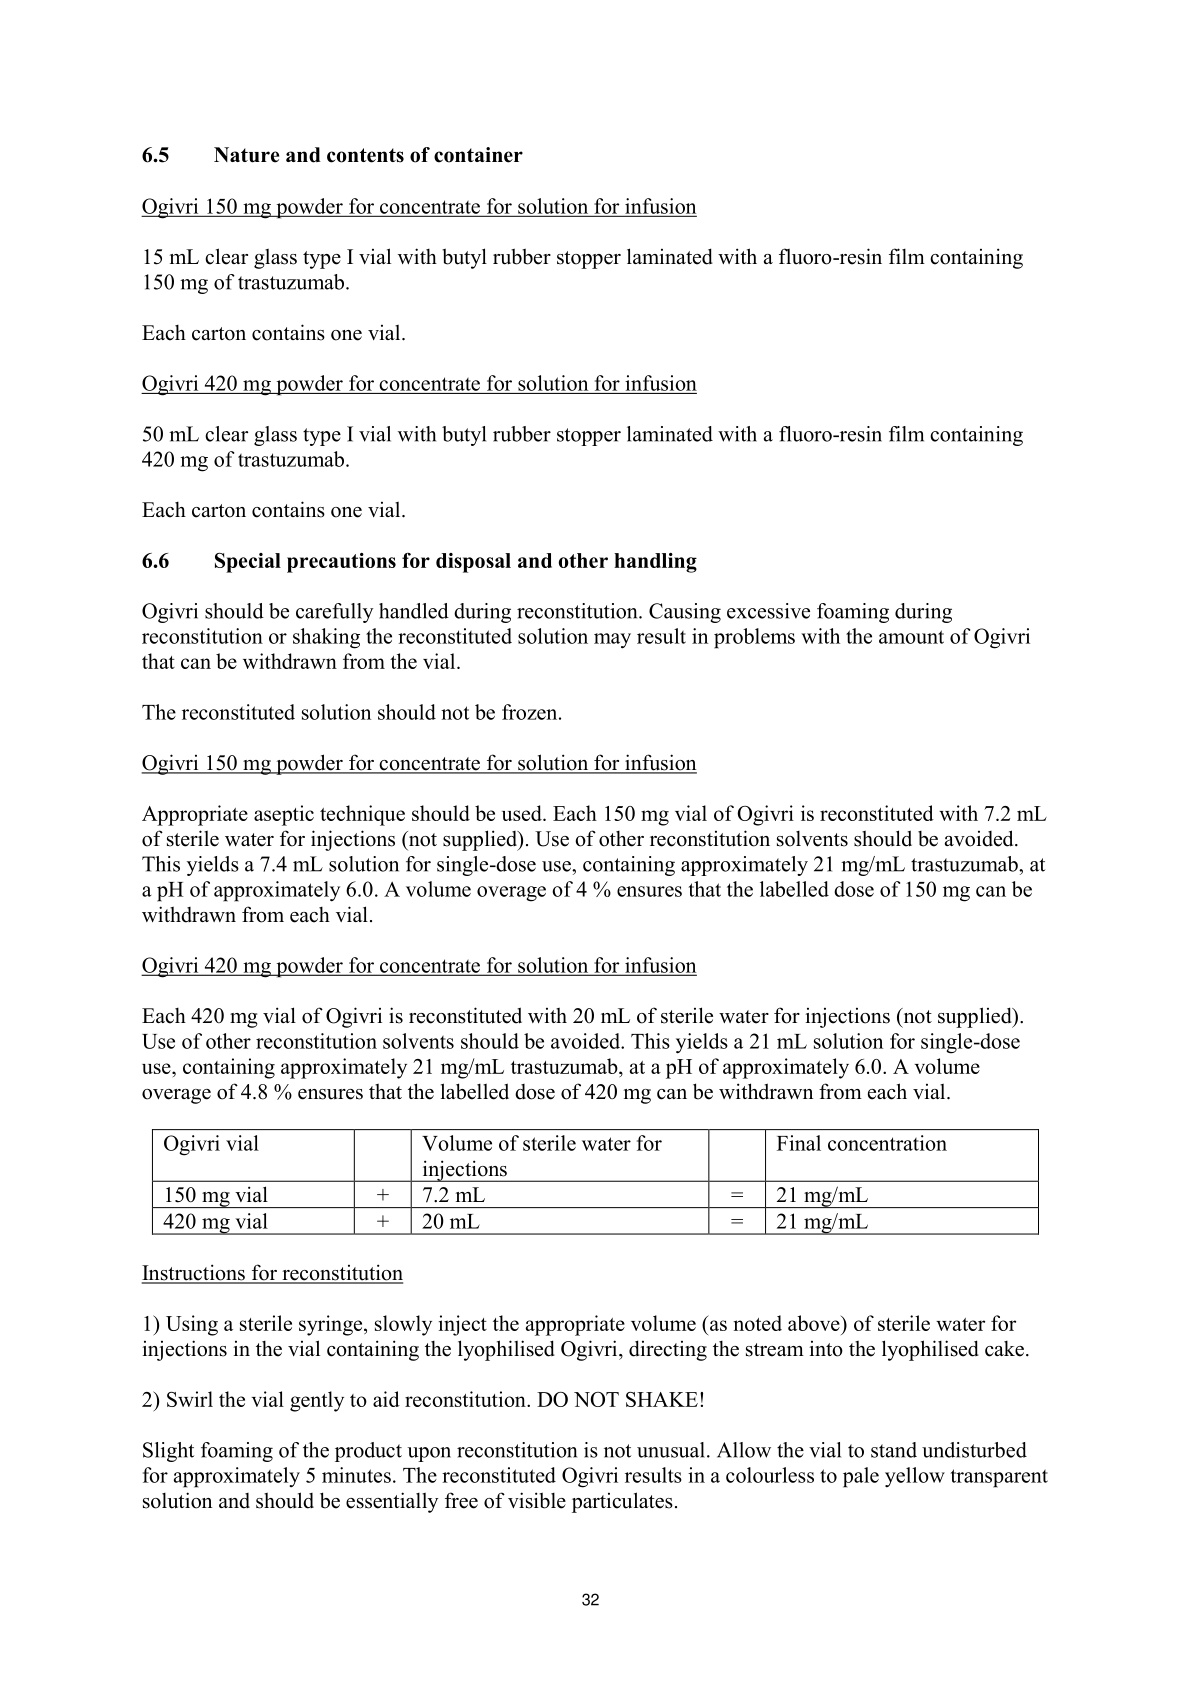full_lined: (151, 1128, 1040, 1236)
